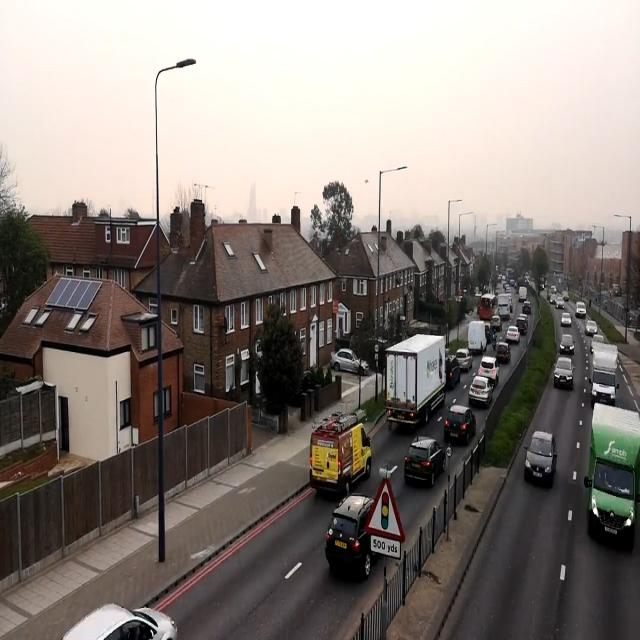Car: (320, 493, 392, 579), (58, 594, 180, 640), (402, 437, 448, 490), (524, 428, 560, 489), (443, 405, 478, 443), (330, 344, 368, 379), (552, 356, 576, 391), (469, 377, 492, 406), (556, 332, 578, 358), (445, 355, 460, 388), (479, 352, 499, 375), (456, 349, 473, 373), (493, 340, 512, 360), (574, 301, 588, 321), (559, 311, 572, 332), (515, 314, 529, 333), (516, 282, 529, 302), (584, 321, 599, 337), (507, 324, 521, 340), (555, 296, 567, 312), (522, 298, 535, 312)
Truck: (586, 398, 640, 551), (382, 332, 448, 431), (307, 409, 373, 496), (588, 339, 622, 408), (468, 316, 489, 360), (497, 291, 512, 323)
